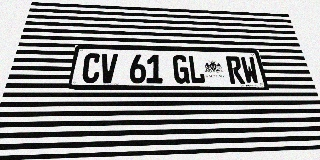1: (146, 54, 163, 84)
6: (129, 54, 146, 83)
C: (81, 53, 101, 83)
G: (172, 55, 190, 84)
L: (188, 55, 206, 84)
R: (225, 56, 245, 84)
V: (99, 53, 118, 83)
W: (240, 56, 260, 84)
